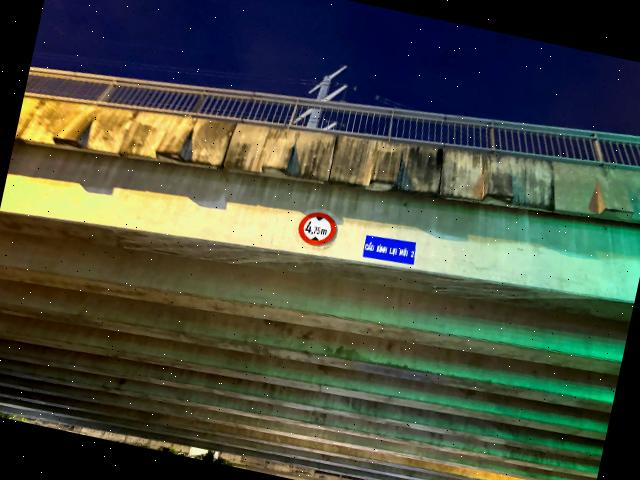han-che-chieu-cao: (296, 209, 340, 249)
